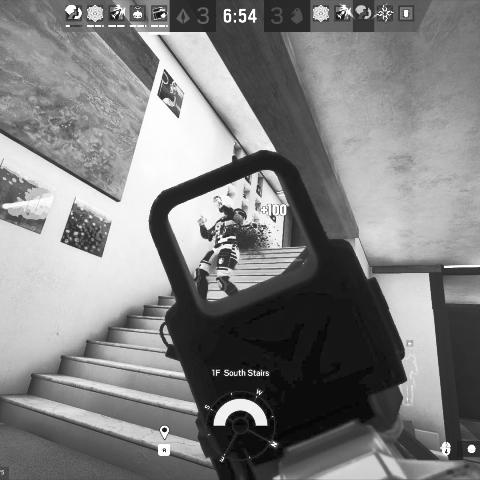Character: (192, 192, 248, 301)
Head: (214, 194, 235, 214)
